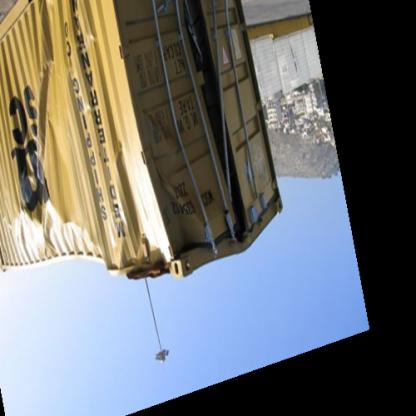Damage: (155, 7, 263, 252), (5, 32, 70, 262)
